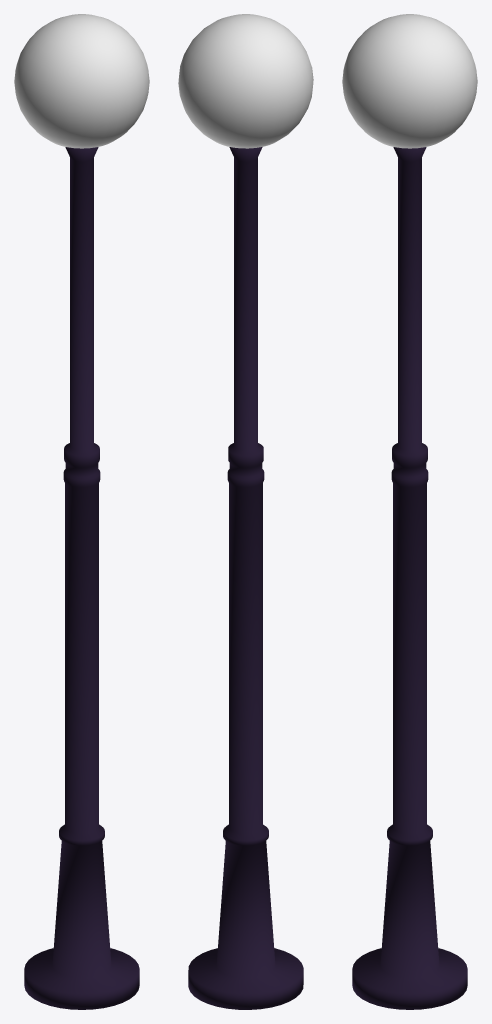
Rendered from Bulbstreetlampyayfixed.fbx.
3 views of the same model, side by side, from view 1: azimuth 90°, elevation 25°; view 2: azimuth 150°, elevation 25°; view 3: azimuth 270°, elevation 25° (orthographic).
Parts seen in each view (by area): view 1: BulbStreetLamp; view 2: BulbStreetLamp; view 3: BulbStreetLamp.
Boxes of the visible parts, bbox=[...] form: BulbStreetLamp: bbox=[14, 14, 149, 1009]; BulbStreetLamp: bbox=[178, 14, 313, 1009]; BulbStreetLamp: bbox=[342, 14, 477, 1009].
Size of the model in its own units: 39.33 by 39.33 by 309.
